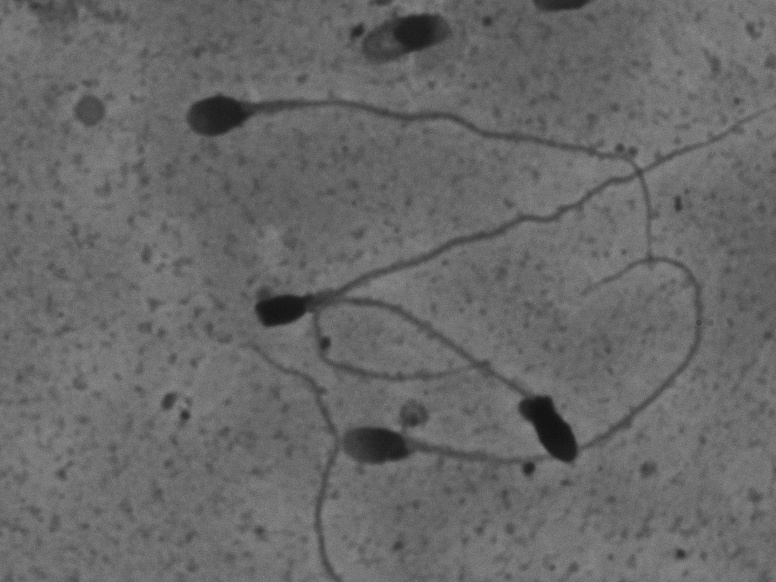Abnormal: (243, 89, 767, 339), (339, 241, 726, 478), (299, 289, 592, 472)
Normal: (173, 84, 666, 278)
